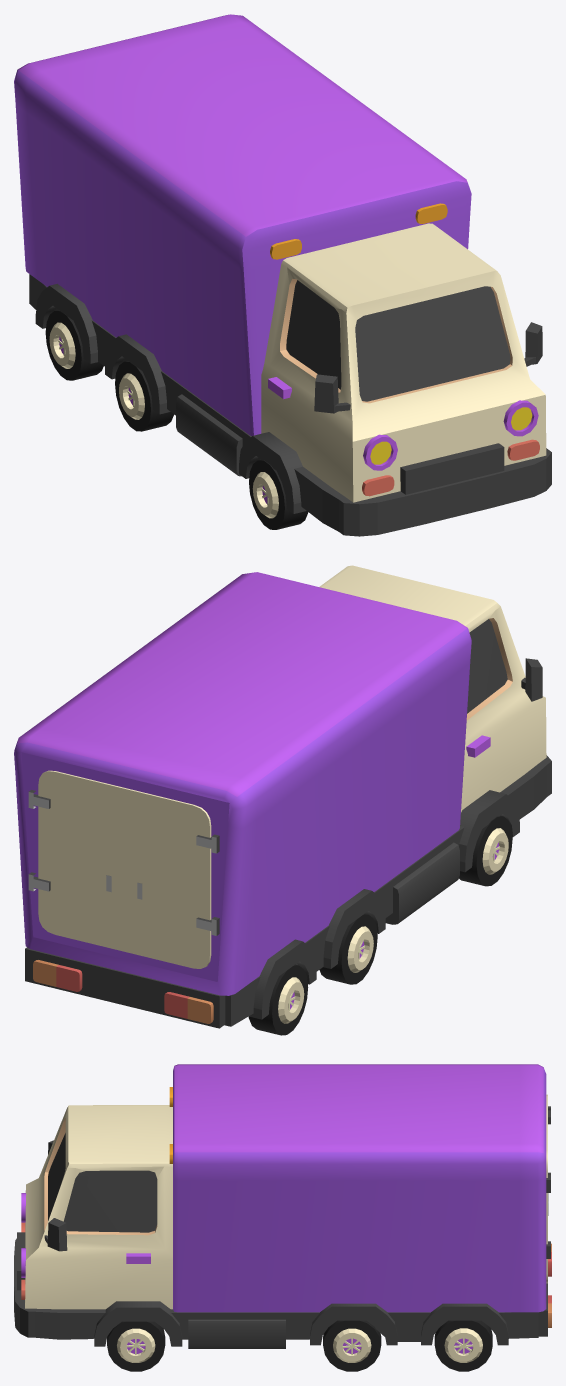
The model's file is Purple_Big_Truck.fbx.
3 views of the same model, one above another, from view 1: azimuth 30°, elevation 25°; view 2: azimuth 150°, elevation 25°; view 3: azimuth 270°, elevation 25° (orthographic). The views are drawn at different scales.
Parts seen in each view (by area): view 1: Purple_Big_Truck, Purple_Big_Truck_Wheel2, Purple_Big_Truck_Wheel3, Purple_Big_Truck_Wheel; view 2: Purple_Big_Truck, Back_Right_Door002, Back_Left_Door002, Purple_Big_Truck_Wheel2, Purple_Big_Truck_Wheel3, Purple_Big_Truck_Wheel; view 3: Purple_Big_Truck, Purple_Big_Truck_Wheel3, Purple_Big_Truck_Wheel2, Purple_Big_Truck_Wheel, Back_Left_Door002.
Boxes of the visible parts, x1=… form: Purple_Big_Truck: x1=14, y1=14, x2=551, y2=536; Purple_Big_Truck_Wheel2: x1=115, y1=360, x2=173, y2=431; Purple_Big_Truck_Wheel3: x1=45, y1=310, x2=103, y2=380; Purple_Big_Truck_Wheel: x1=249, y1=459, x2=308, y2=529; Purple_Big_Truck: x1=14, y1=565, x2=551, y2=1028; Back_Right_Door002: x1=124, y1=788, x2=219, y2=968; Back_Left_Door002: x1=28, y1=770, x2=124, y2=951; Purple_Big_Truck_Wheel2: x1=319, y1=913, x2=377, y2=984; Purple_Big_Truck_Wheel3: x1=248, y1=964, x2=308, y2=1035; Purple_Big_Truck_Wheel: x1=459, y1=815, x2=512, y2=886; Purple_Big_Truck: x1=14, y1=1064, x2=551, y2=1348; Purple_Big_Truck_Wheel3: x1=434, y1=1320, x2=492, y2=1371; Purple_Big_Truck_Wheel2: x1=323, y1=1320, x2=381, y2=1371; Purple_Big_Truck_Wheel: x1=107, y1=1321, x2=165, y2=1371; Back_Left_Door002: x1=546, y1=1123, x2=550, y2=1283.
Bounding box in the file's own units: 269 × 305 × 665.
